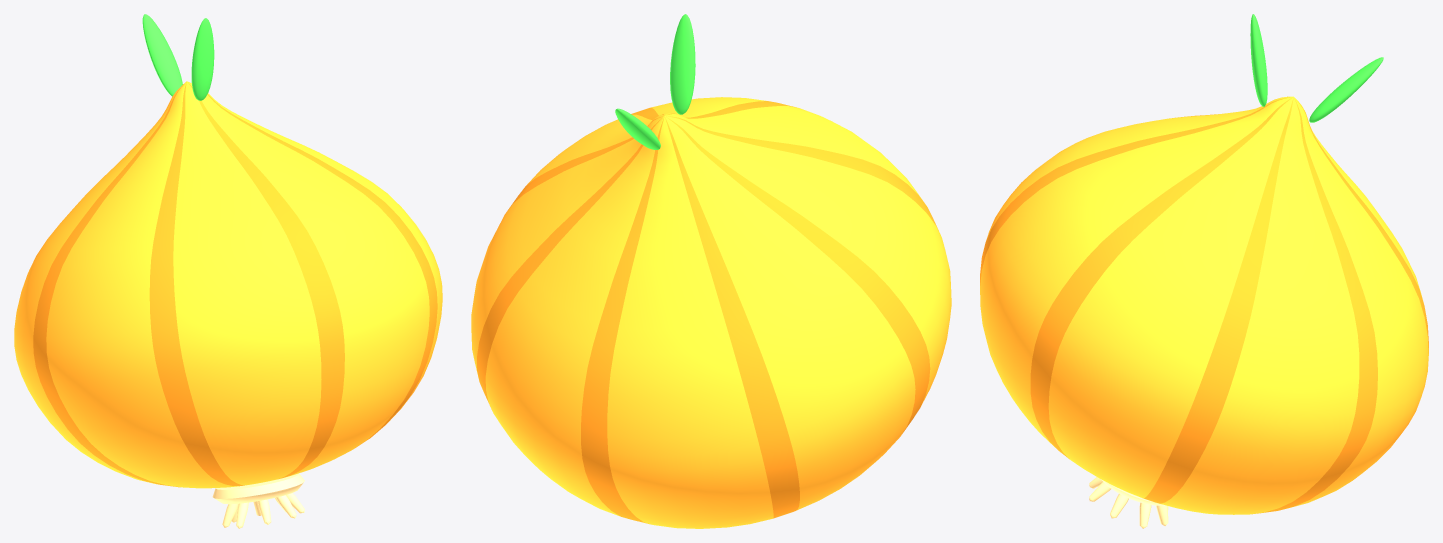
3 renders of one model, left to right at view 1: azimuth 30°, elevation 25°; view 2: azimuth 150°, elevation 25°; view 3: azimuth 270°, elevation 25°, orthographic. The views are drawn at different scales.
Parts seen in each view (by area): view 1: Onion-whole; view 2: Onion-whole; view 3: Onion-whole.
Part boxes in pixels (left/top/right/bottom): Onion-whole: left=14, top=14, right=442, bottom=528; Onion-whole: left=471, top=14, right=951, bottom=528; Onion-whole: left=980, top=14, right=1428, bottom=528.
Size of the model in its own units: 0.0592 by 0.0713 by 0.0574.
